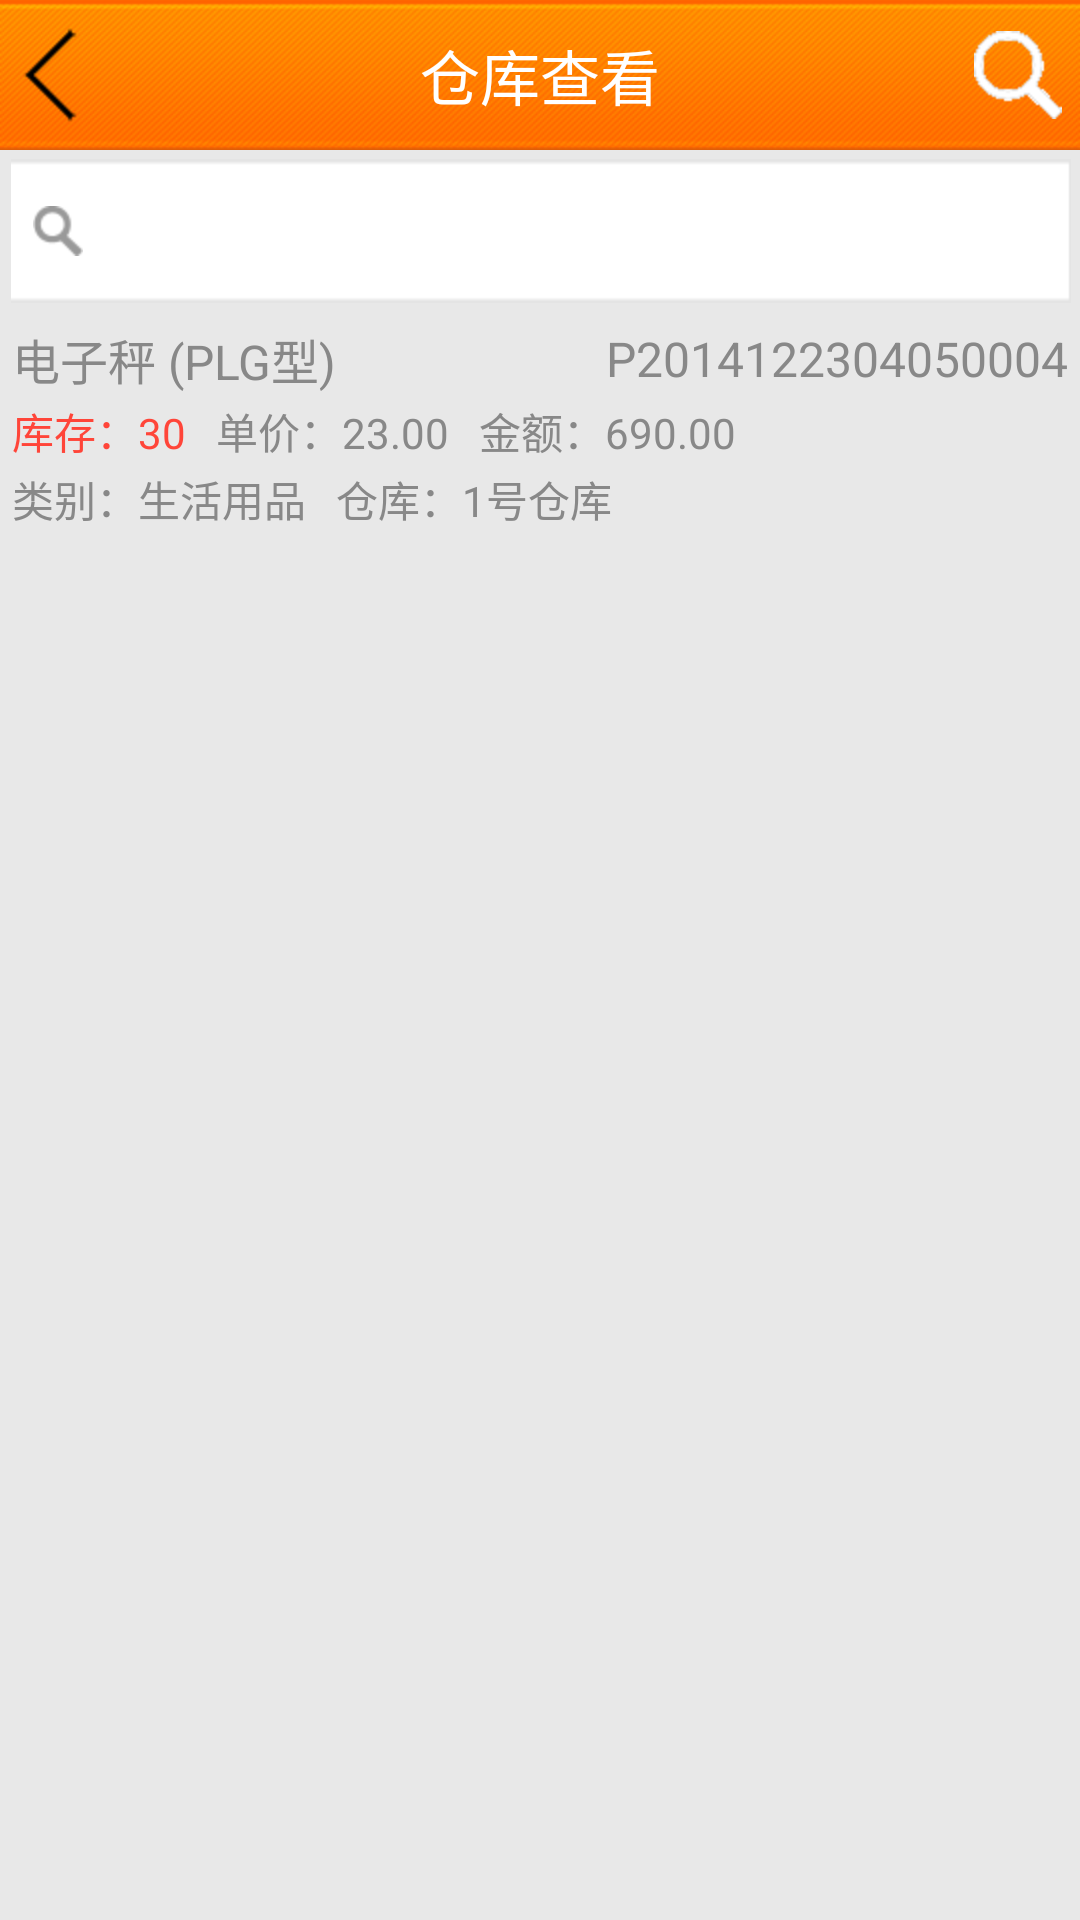

Icons on this 1080 x 1920 Android screen, each with the point to tap as [x,y]:
back: [50,77]
search: [1018,75], [58,231]
